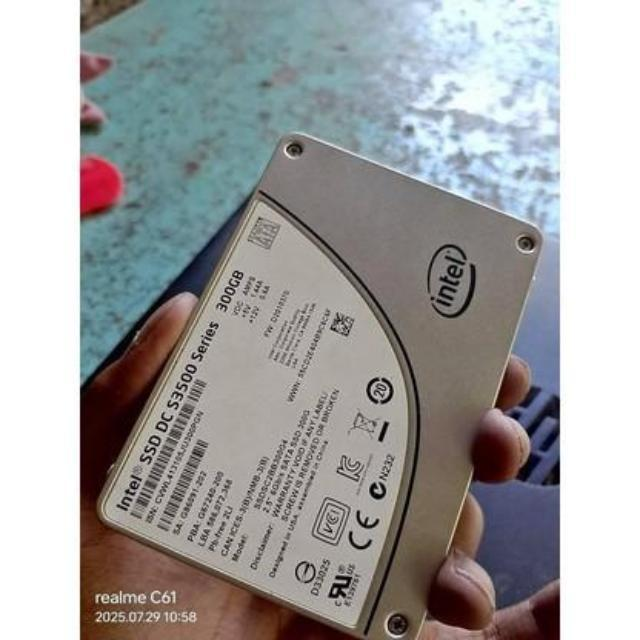DISK: (101, 128, 547, 640)
